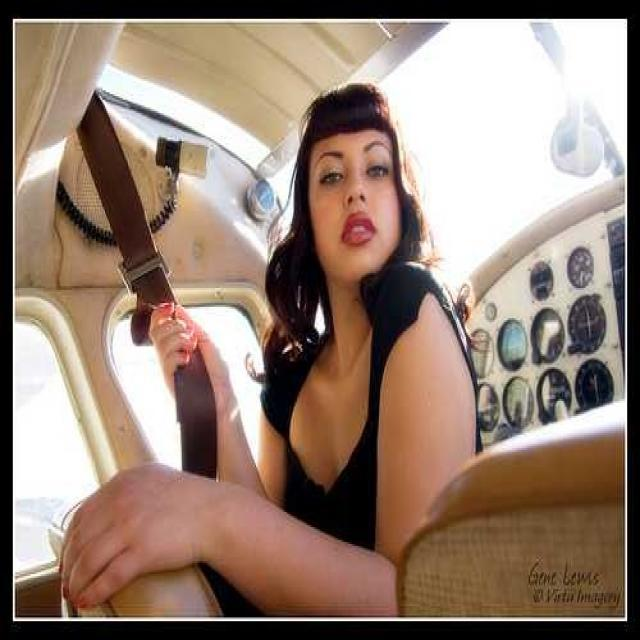seatbelt: (79, 102, 233, 466)
